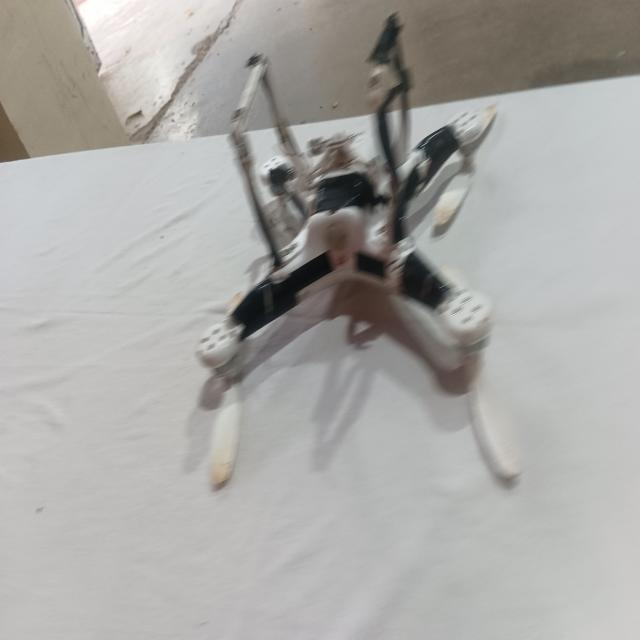drone: (191, 20, 501, 418)
